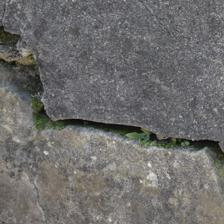Crack: (0, 146, 107, 194), (0, 70, 62, 151)
